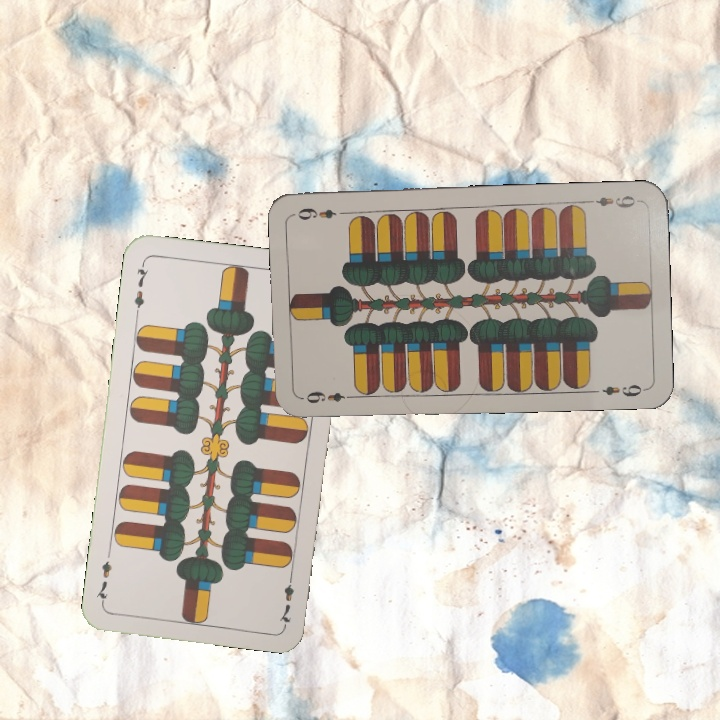E7: (275, 568, 297, 627), (130, 258, 151, 317)
E9: (583, 192, 638, 211), (302, 387, 357, 406)
